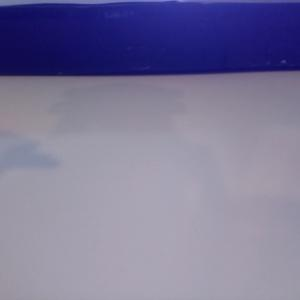zone: (1, 1, 300, 76)
